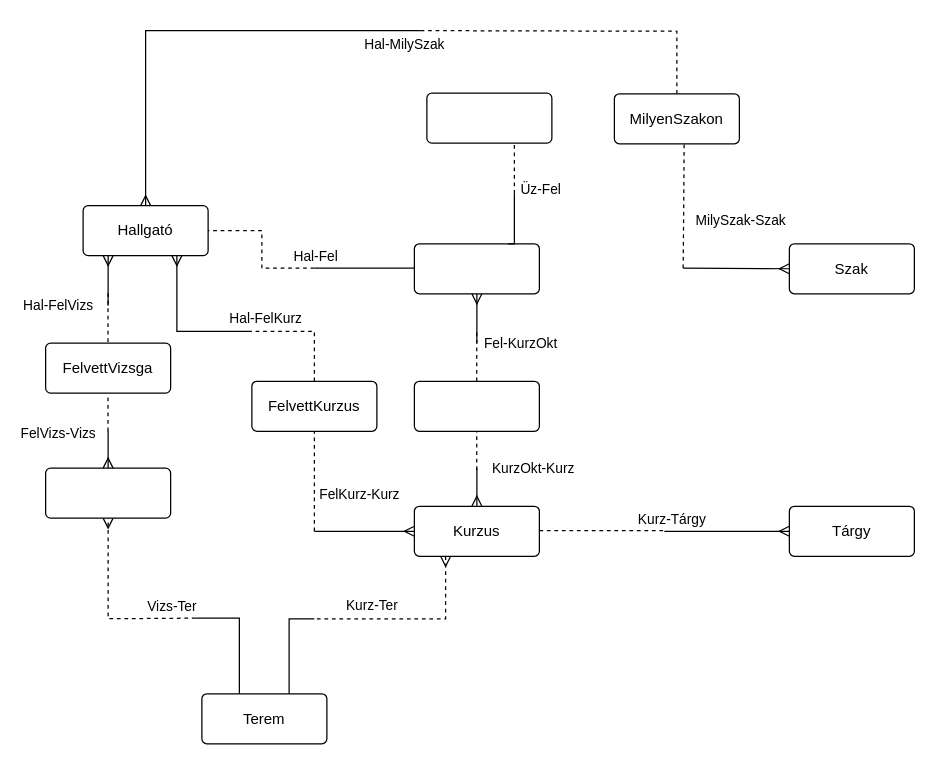
This 938x766 diagram has some shape labels left out. The centre of each missing label's shape, as x and y in pixels:
"Felhasználó" belongs at point (476, 268).
"KurzustOktat" belongs at point (476, 405).
"Vizsga" belongs at point (107, 492).
"Üzenet" belongs at point (489, 117).
